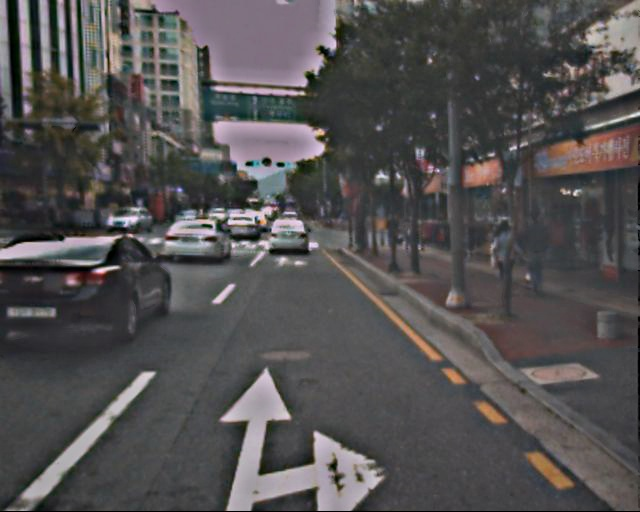person: (514, 206, 554, 303), (490, 219, 522, 298)
